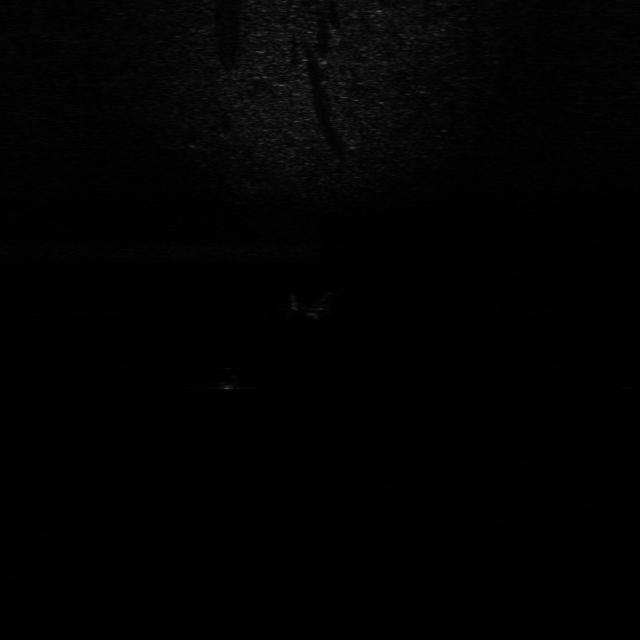ball: (210, 364, 248, 394)
human body: (286, 289, 346, 321)
